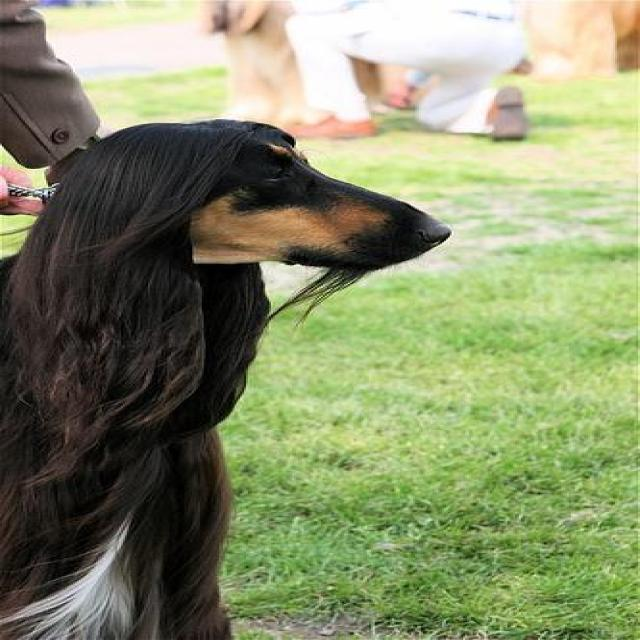afghan_hound: (0, 119, 452, 637)
